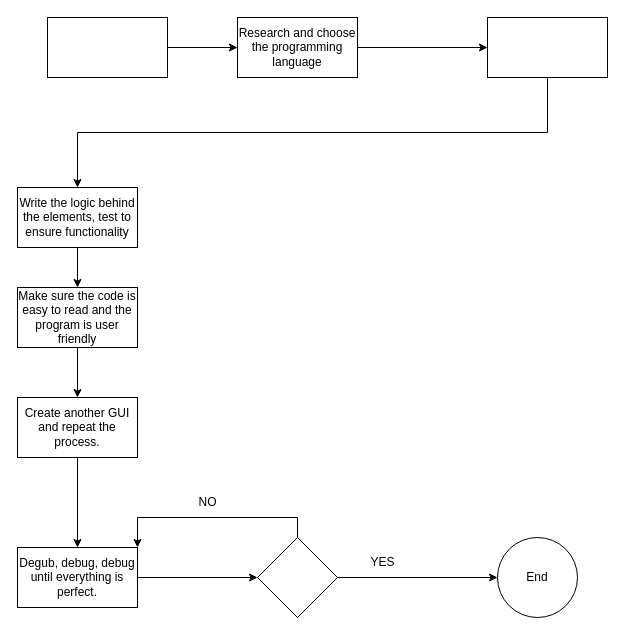
Image size: 625x635. Some labels were removed from this diagram. Here are the shapes that lost their labels. From the top down, the centre of each, then its label:
At (107,47): "Create diagram".
At (547,47): "Create GUI".
At (297,577): "Finished?".
